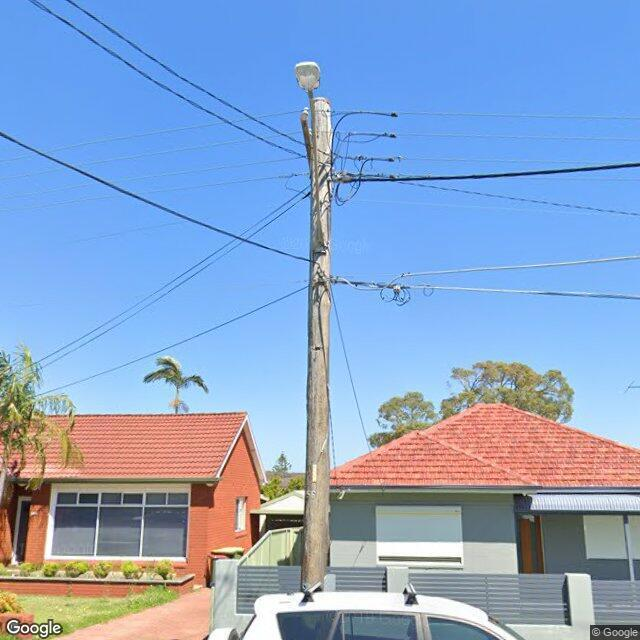crossarm: (300, 115, 313, 173)
streetlight: (296, 63, 328, 252)
timber-pole: (302, 98, 330, 593)
